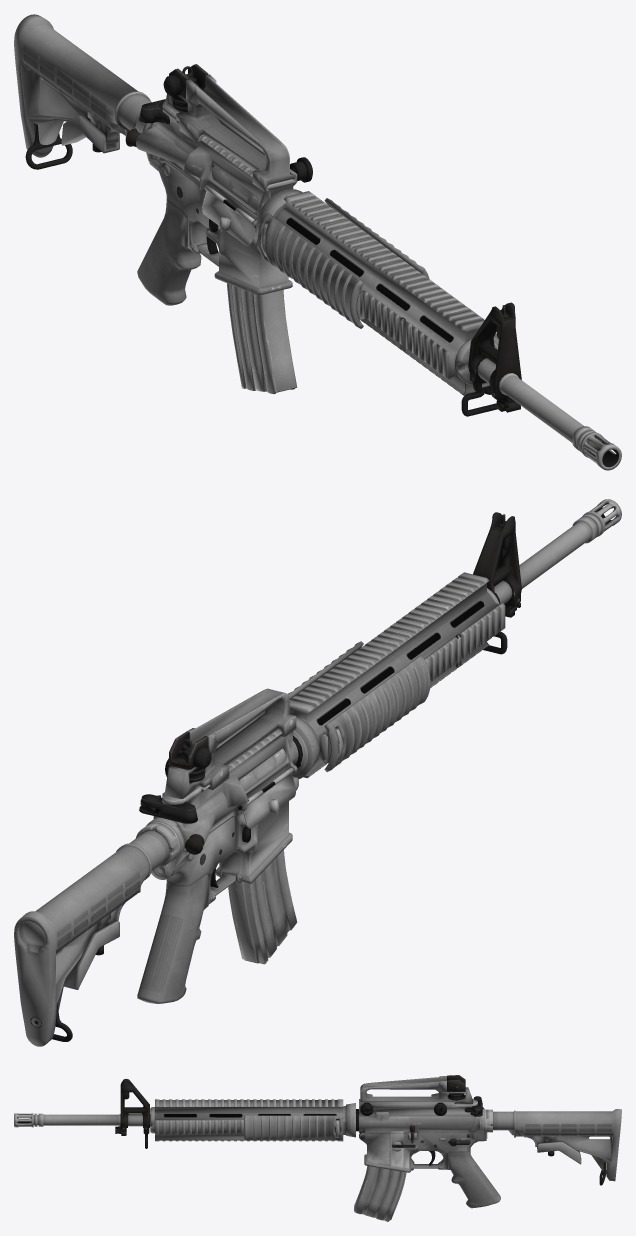
Rendered from Weapons_M16A4_LOD0.glb.
3 renders of one model, top to bottom at view 1: azimuth 30°, elevation 25°; view 2: azimuth 150°, elevation 25°; view 3: azimuth 270°, elevation 25°, orthographic. The views are drawn at different scales.
Parts seen in each view (by area): view 1: Hoodie; view 2: Hoodie; view 3: Hoodie.
Part boxes in pixels (<box>): Hoodie: <box>14,14,621,470</box>; Hoodie: <box>14,499,621,1046</box>; Hoodie: <box>14,1075,621,1221</box>.
Bounding box in the file's own units: 0.0807 × 0.2618 × 1.02.
1 material, 1 textured.
